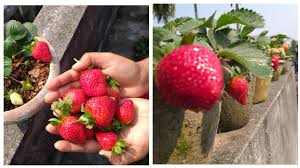ripe: (153, 43, 222, 111), (83, 98, 117, 127), (77, 68, 109, 98), (56, 115, 86, 146), (60, 87, 88, 113), (227, 74, 249, 105), (29, 40, 53, 63), (117, 98, 136, 126), (94, 131, 118, 152), (101, 84, 123, 102), (270, 54, 280, 72)
unripe: (8, 90, 23, 106), (278, 48, 286, 58), (272, 47, 279, 54)
